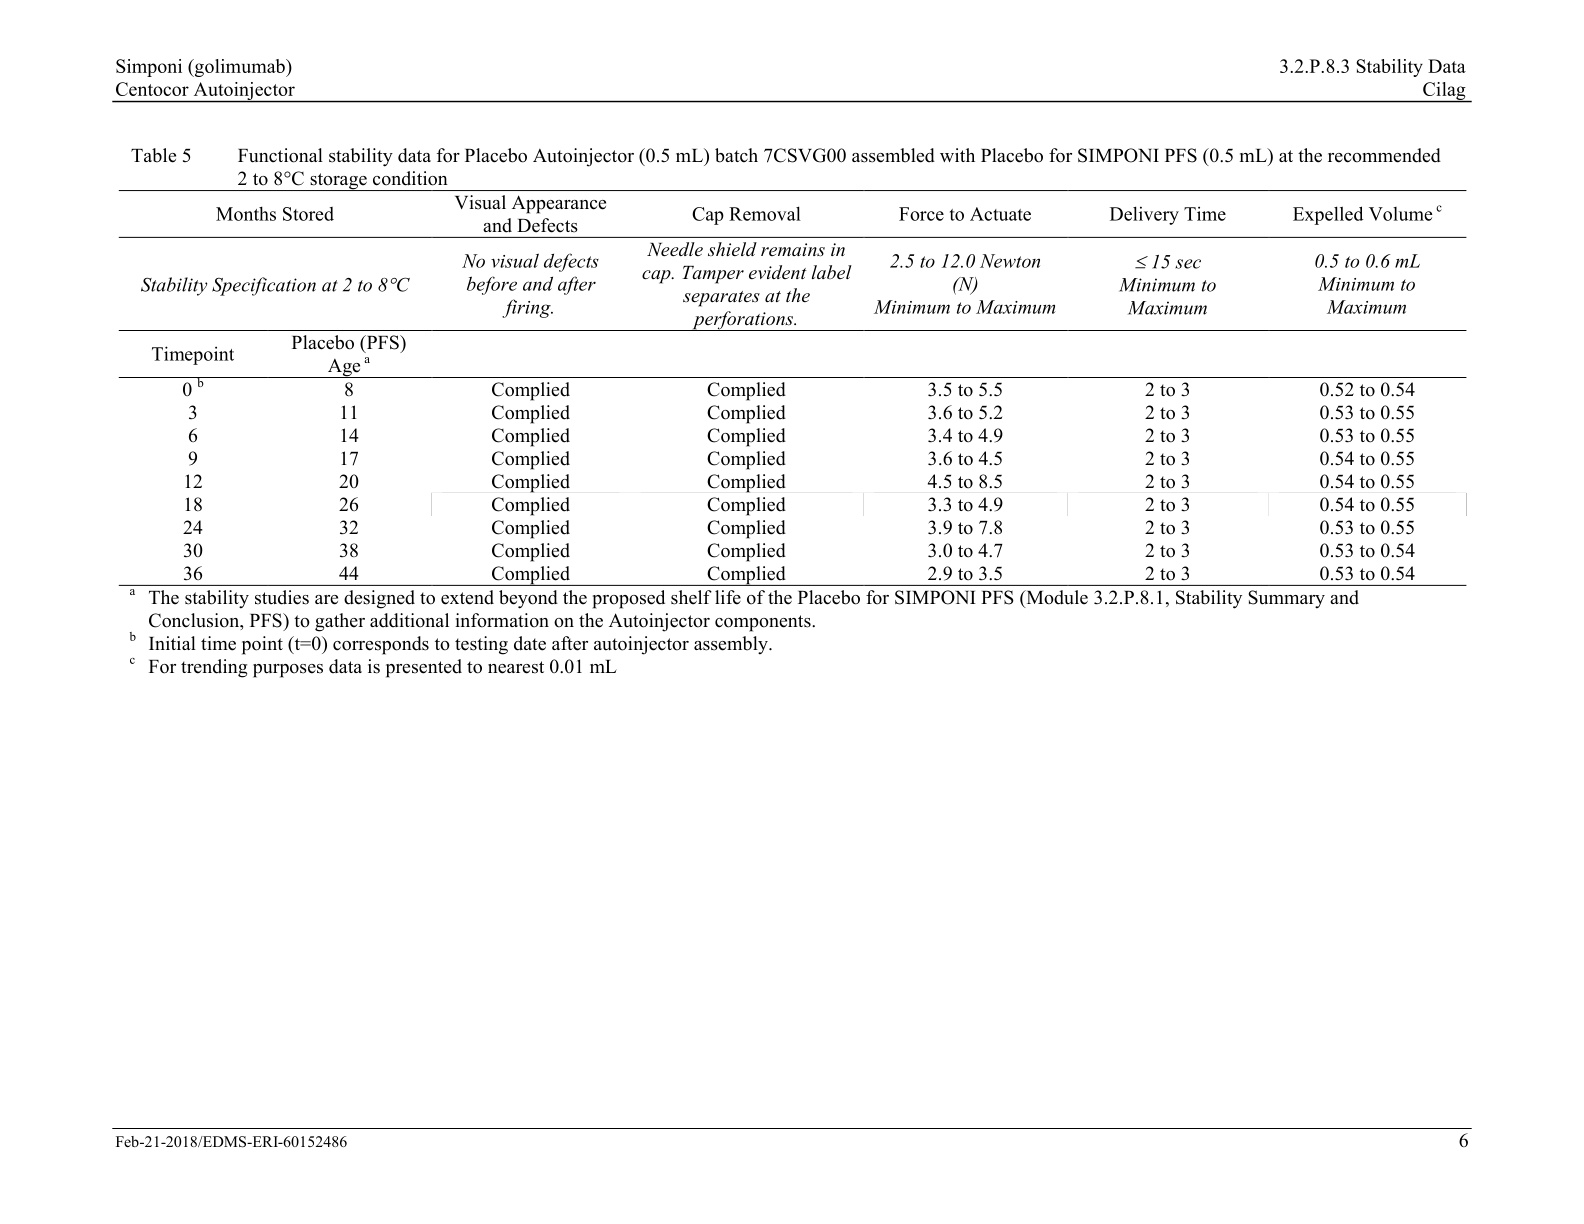partial_lined_merged_cells: (118, 188, 1466, 588)
